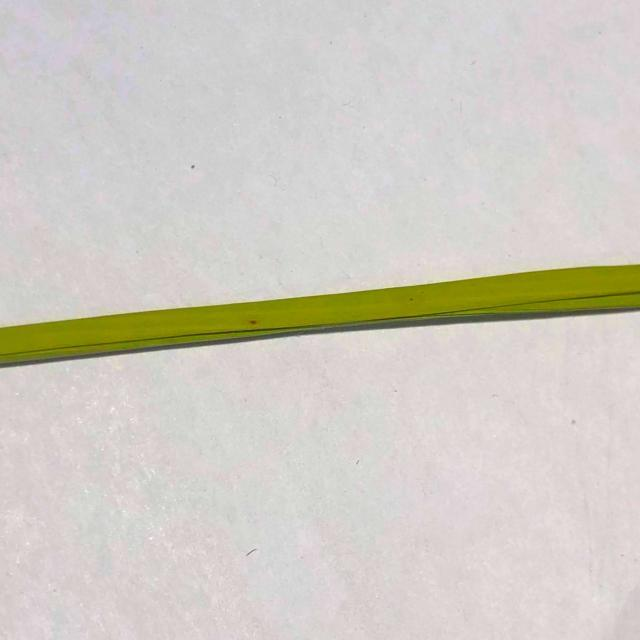brownspots: (247, 314, 269, 336)
